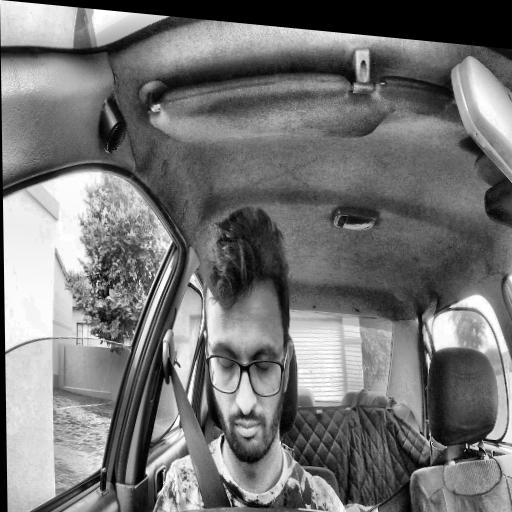drowsy: (202, 199, 296, 468)
